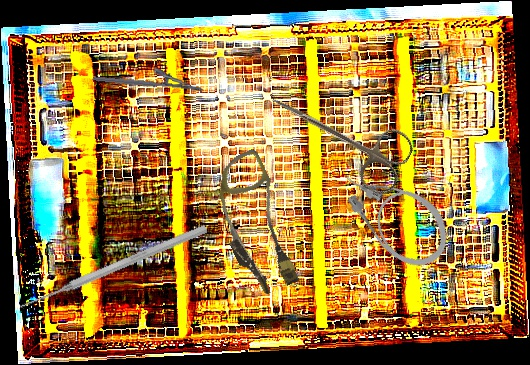Cannula: (329, 145, 462, 281), (197, 147, 314, 301)
Iris Scissors: (256, 73, 418, 199)
Needle Holder: (92, 61, 205, 93)
Pusher: (17, 222, 209, 313)
